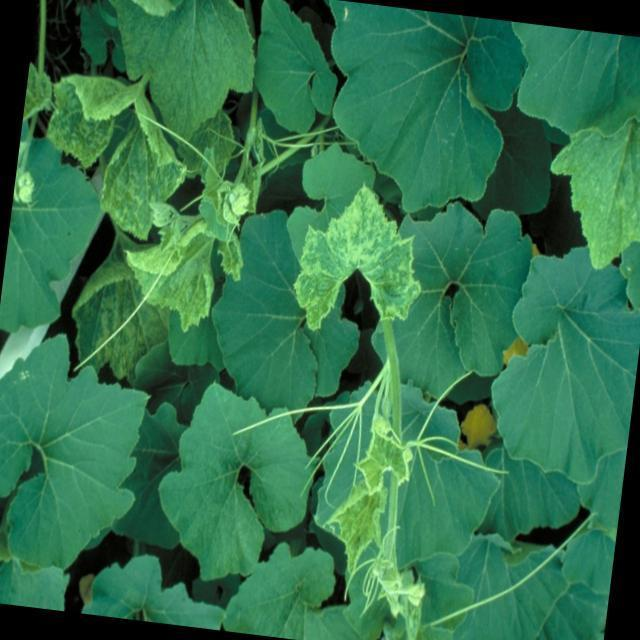Mosaic Virus: (33, 78, 184, 232), (290, 196, 427, 329), (553, 119, 640, 259), (132, 235, 222, 328), (80, 284, 158, 382)
